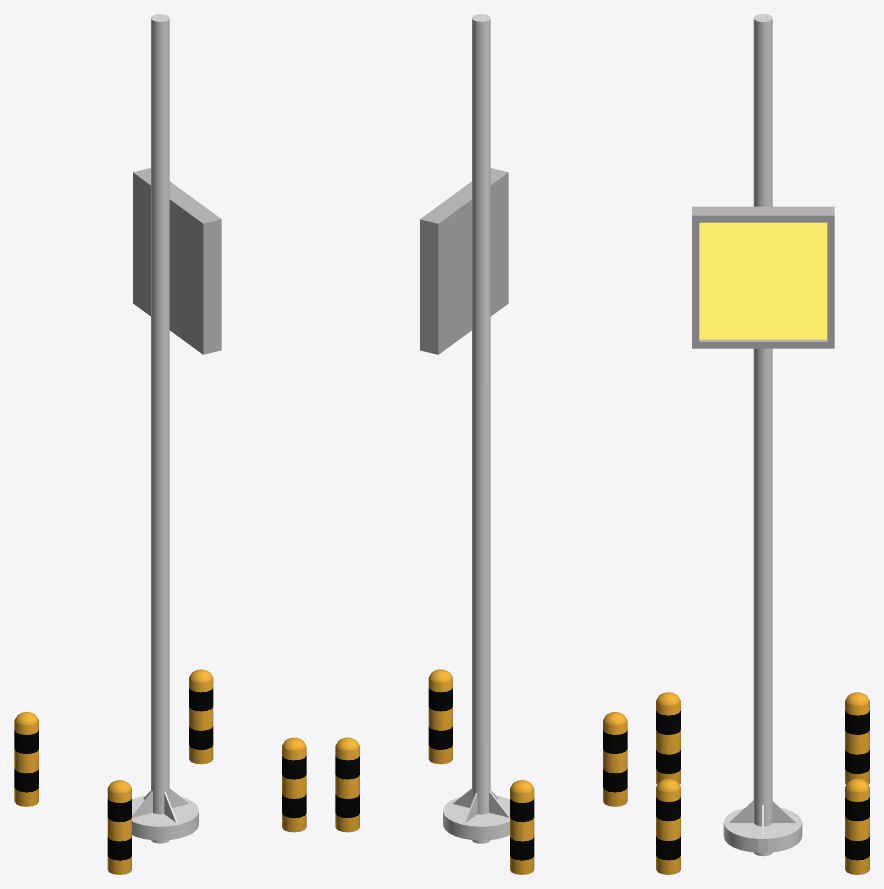
File: oerk_gate_si_t5b.gltf
The picture shows the model from 3 angles, left to right: view 1: azimuth 30°, elevation 25°; view 2: azimuth 150°, elevation 25°; view 3: azimuth 270°, elevation 25°; orthographic projection.
Visible parts, largest first — view 1: Cylinder.001, Cube.012, Sphere, Cube.001; view 2: Cylinder.001, Cube.012, Sphere, Cube.001; view 3: Cube.012, Cylinder.001, Sphere, Cube.001.
Boxes of the visible parts, x1,y1,x2,y2 form: Cylinder.001: (151,14,169,843); Cube.012: (133,168,221,354); Sphere: (14,669,306,874); Cube.001: (132,788,198,840); Cylinder.001: (472,14,490,843); Cube.012: (420,168,508,354); Sphere: (335,669,627,874); Cube.001: (443,788,509,840); Cube.012: (692,206,834,348); Cylinder.001: (753,14,772,856); Sphere: (656,692,869,874); Cube.001: (723,800,802,852).
Size of the model in its own units: 2.23 by 8.97 by 2.08.
3 materials, 1 textured.
